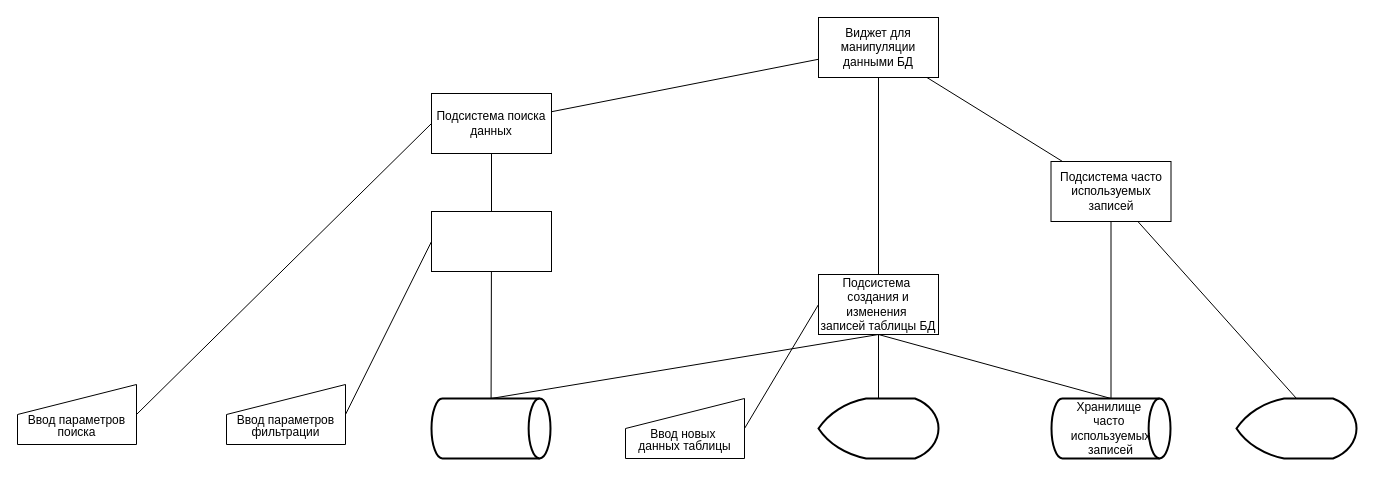
This 1375x477 diagram has some shape labels left out. The shapes that lost their labels are listed below. From the top down, each one's centre as x and y in pixels, then its label:
point 491,241: Подсистема фильтрации данных
point 490,428: База данных
point 878,428: Вывод обновленной таблицы
point 1296,428: Вывод часто используемых записей
